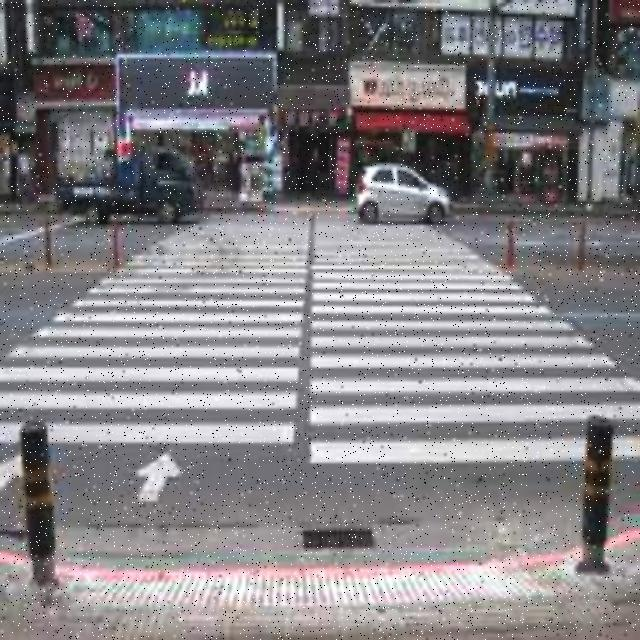Pedestrian crosswalk: (2, 207, 640, 481)
